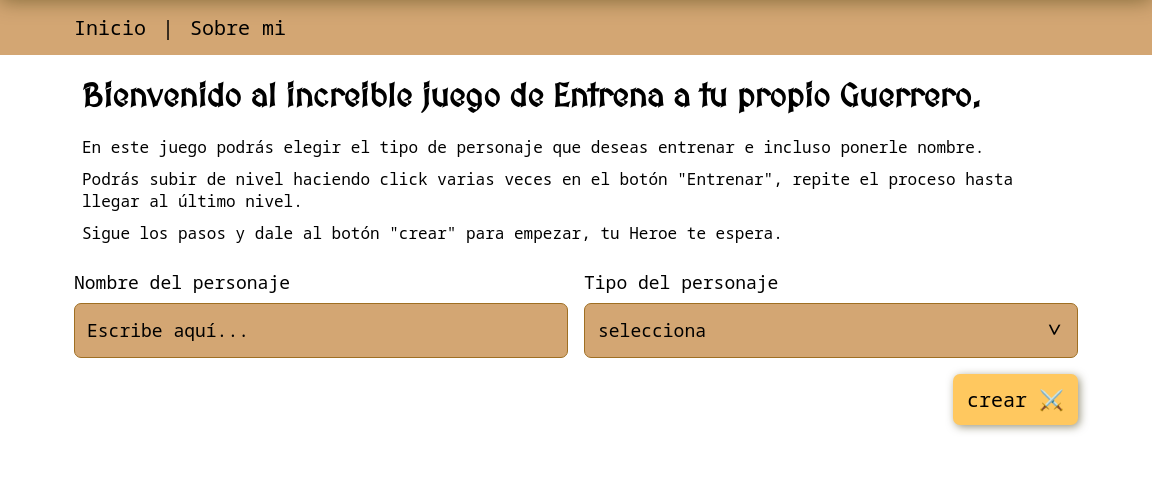
it: Medieval Cards React app › shows form validation errors
Click the button "crear ⚔️" at (1016, 399), box [953, 374, 1078, 425]
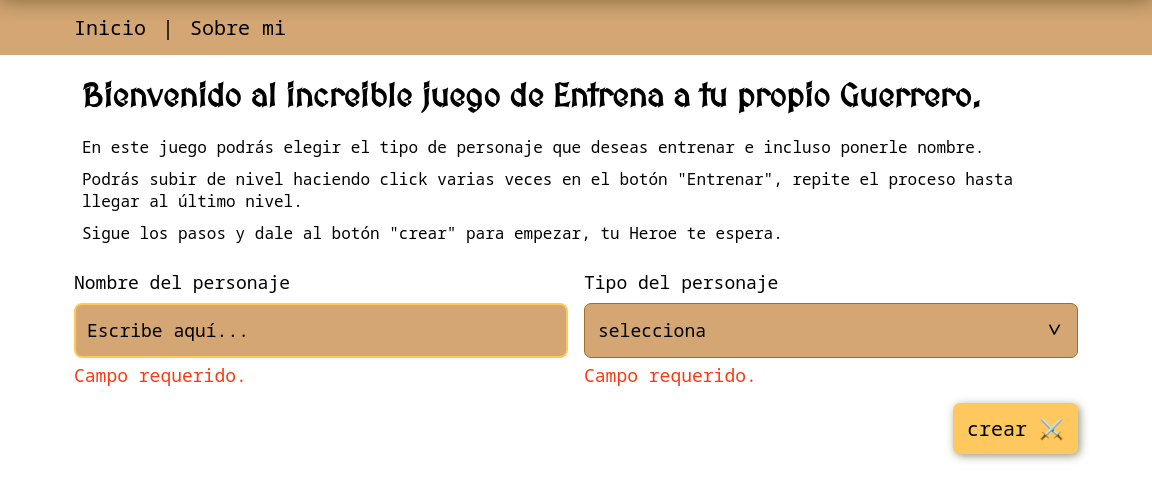
Result: the text "Campo requerido." is shown 2 times at [74, 363, 247, 387]; [584, 363, 757, 387]
